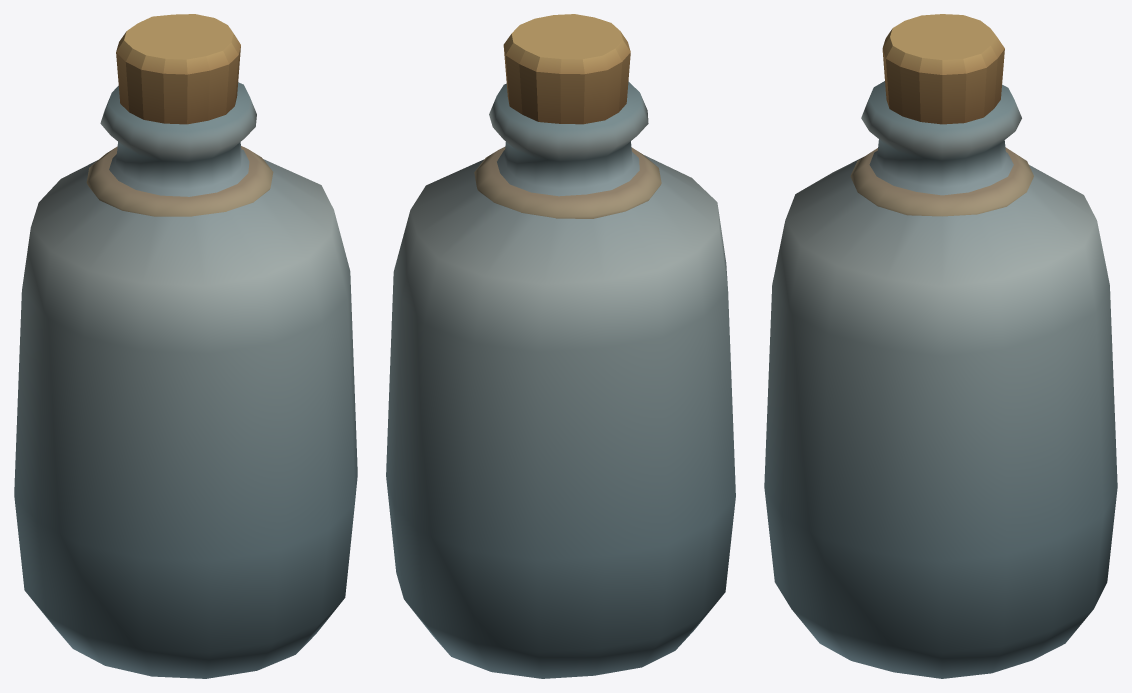
File: building-ruins-bottleWater-v2.glb
3 renders of one model, left to right at view 1: azimuth 30°, elevation 25°; view 2: azimuth 150°, elevation 25°; view 3: azimuth 270°, elevation 25°, orthographic.
Visible parts, largest first — view 1: 0_ruins-bottleWater; view 2: 0_ruins-bottleWater; view 3: 0_ruins-bottleWater.
Boxes of the visible parts, x1,y1,x2,y2 form: 0_ruins-bottleWater: (14,14,357,678); 0_ruins-bottleWater: (386,14,735,678); 0_ruins-bottleWater: (764,14,1117,678).
Size of the model in its own units: 0.1369 by 0.25 by 0.1379.
